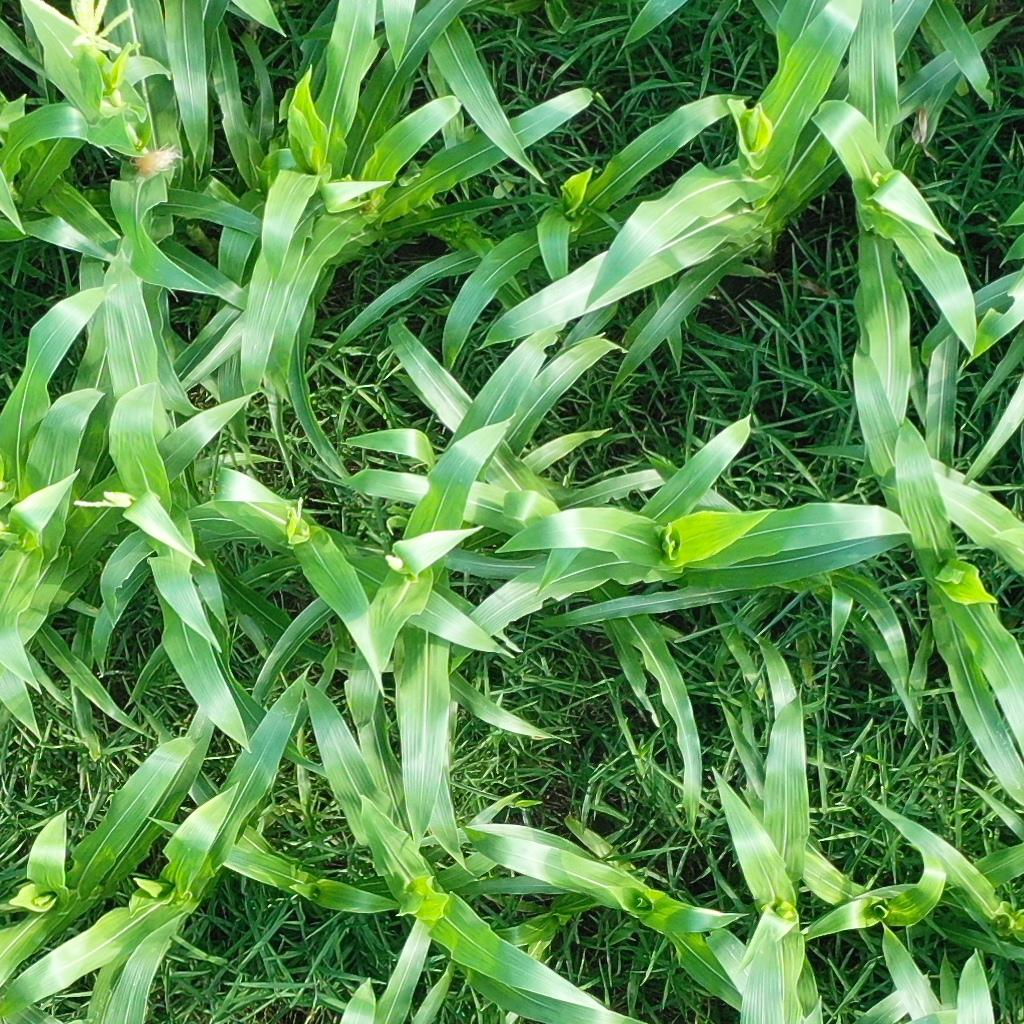Tassel: (35, 1, 136, 57), (70, 488, 136, 514), (286, 493, 306, 532), (379, 555, 403, 571)
